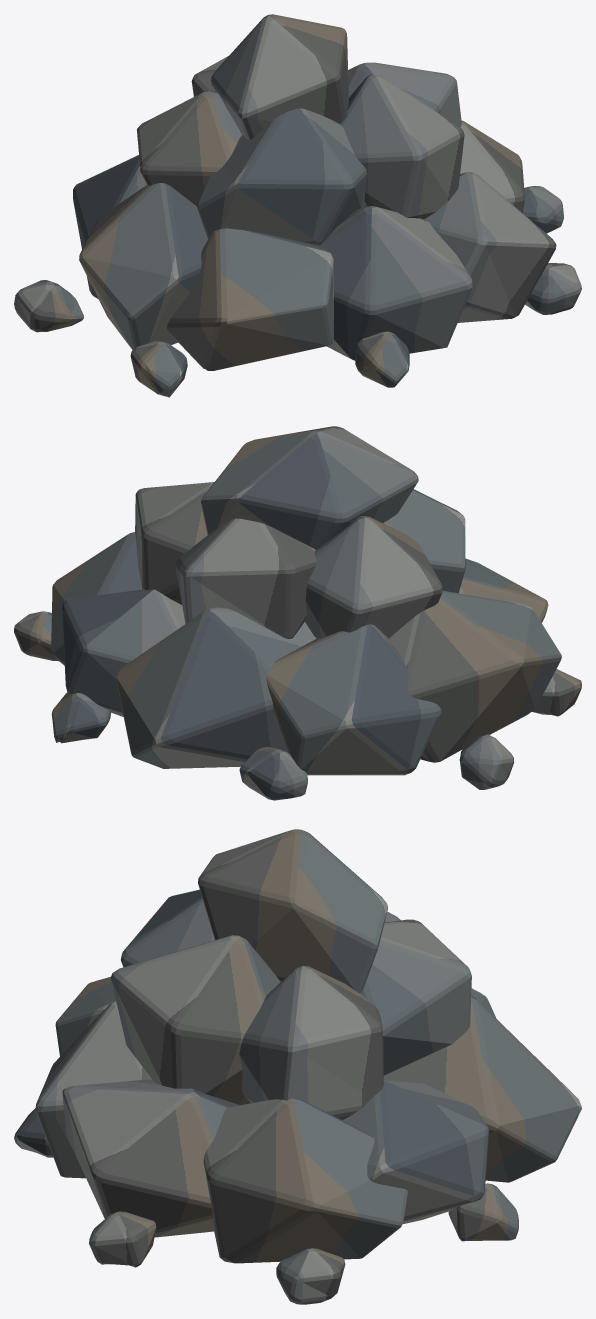
Rendered from RockPile.fbx.
3 views of the same model, one above another, from view 1: azimuth 30°, elevation 25°; view 2: azimuth 150°, elevation 25°; view 3: azimuth 270°, elevation 25° (orthographic). The views are drawn at different scales.
Visible parts, largest first — view 1: Stone_06, Stone_07, Stone_13, Stone_05, Stone_14, Stone_15, Stone_08, Stone_12, Stone_04, Stone_01, Stone_10, Stone_19 (+5 smaller); view 2: Stone_03, Stone_04, Stone_05, Stone_15, Stone_12, Stone_11, Stone_02, Stone_10, Stone_13, Stone_01, Stone_18, Stone_19 (+4 smaller); view 3: Stone_01, Stone_15, Stone_08, Stone_14, Stone_10, Stone_03, Stone_02, Stone_11, Stone_07, Stone_13, Stone_16, Stone_22 (+3 smaller).
Part boxes in pixels (<box>): Stone_06: <box>167,228,333,370</box>; Stone_07: <box>319,206,472,360</box>; Stone_13: <box>197,108,367,245</box>; Stone_05: <box>79,183,207,349</box>; Stone_14: <box>340,73,464,219</box>; Stone_15: <box>211,14,348,139</box>; Stone_08: <box>424,172,556,322</box>; Stone_12: <box>137,91,241,206</box>; Stone_04: <box>73,155,146,298</box>; Stone_01: <box>460,120,524,212</box>; Stone_10: <box>348,62,461,126</box>; Stone_19: <box>14,280,83,332</box>; Stone_03: <box>116,607,316,768</box>; Stone_04: <box>266,624,441,775</box>; Stone_05: <box>389,591,561,762</box>; Stone_15: <box>201,426,418,549</box>; Stone_12: <box>305,516,442,638</box>; Stone_11: <box>175,518,316,638</box>; Stone_02: <box>62,589,185,716</box>; Stone_10: <box>135,482,214,604</box>; Stone_13: <box>383,489,465,593</box>; Stone_01: <box>51,532,142,665</box>; Stone_18: <box>239,747,307,800</box>; Stone_19: <box>459,734,514,789</box>; Stone_01: <box>203,1098,407,1263</box>; Stone_15: <box>198,829,387,992</box>; Stone_08: <box>62,1079,239,1237</box>; Stone_14: <box>111,935,280,1104</box>; Stone_10: <box>239,966,383,1120</box>; Stone_03: <box>383,996,581,1182</box>; Stone_02: <box>343,1079,489,1223</box>; Stone_11: <box>360,919,471,1075</box>; Stone_07: <box>35,1000,151,1178</box>; Stone_13: <box>121,889,214,967</box>; Stone_16: <box>276,1248,345,1304</box>; Stone_22: <box>89,1211,156,1267</box>.
Size of the model in its own units: 374 by 197 by 319.
Materials: 1 (1 with a texture image).
